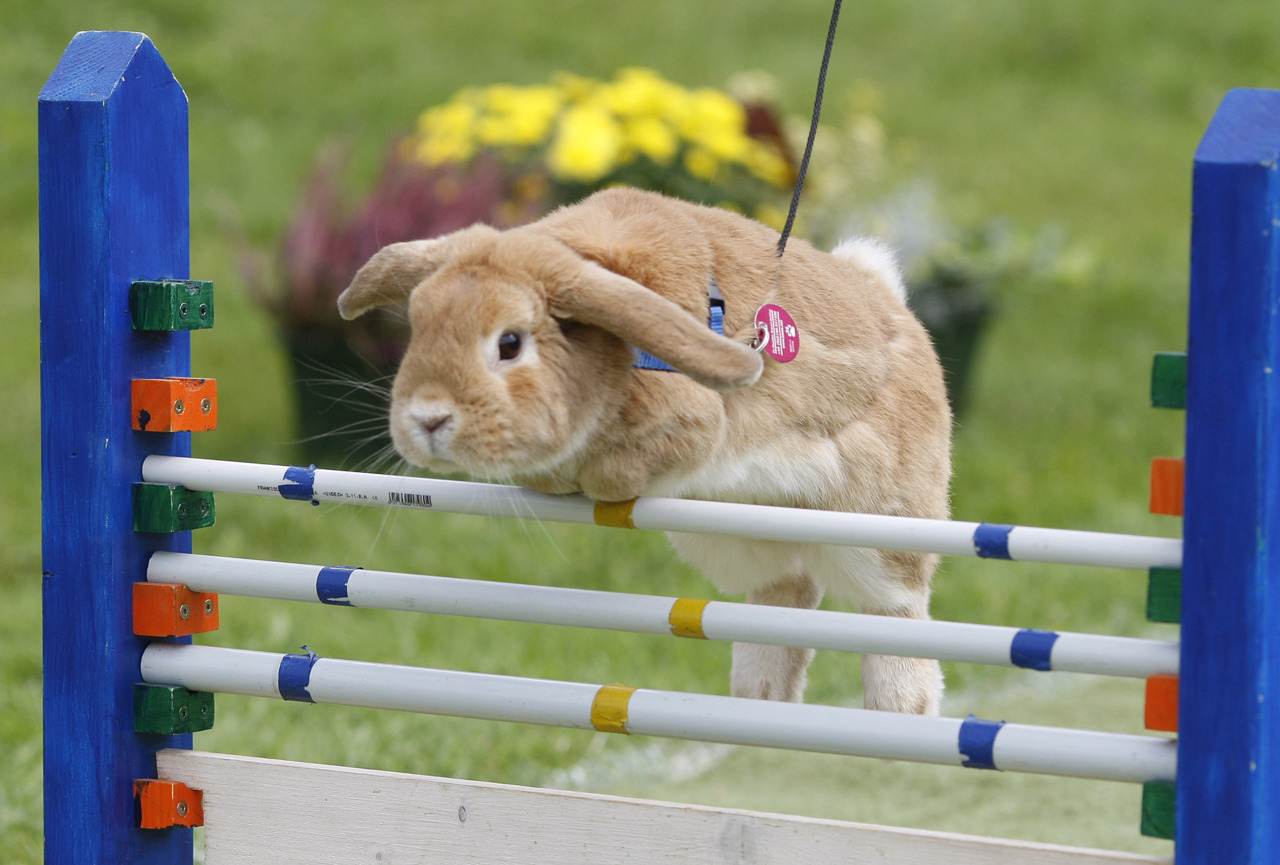bunny: (298, 174, 1031, 763)
